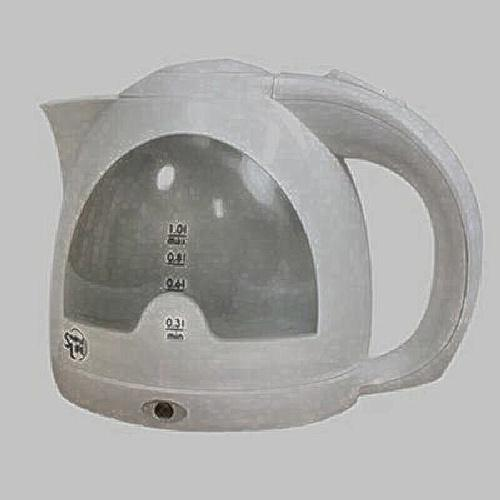kettle: (46, 53, 434, 439)
